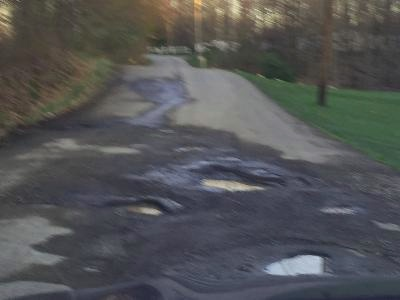pothole: (188, 162, 279, 191), (258, 248, 331, 278), (80, 283, 163, 299), (107, 196, 169, 217), (318, 201, 357, 212)
